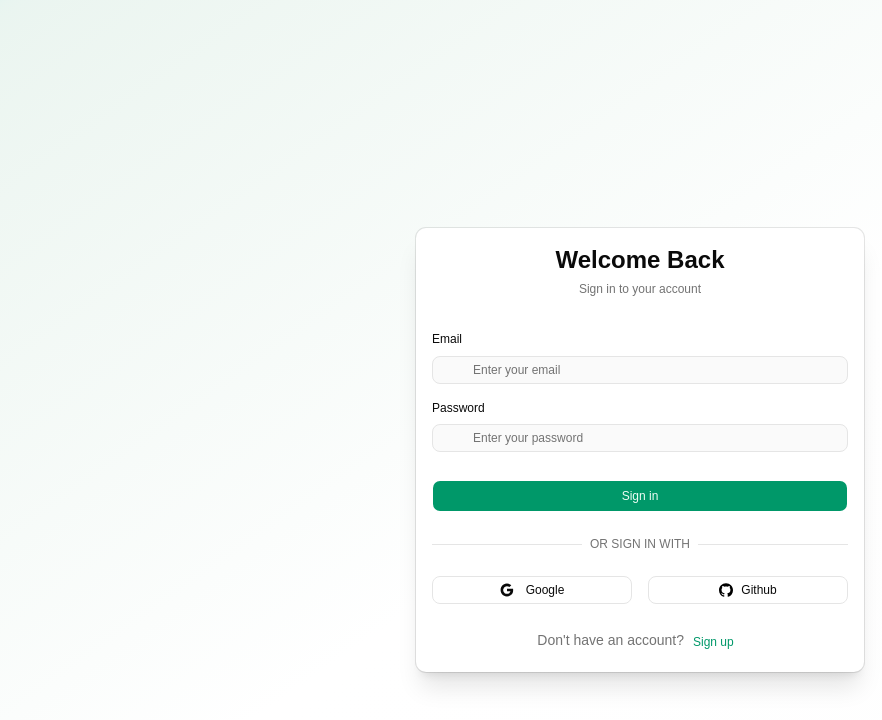
Scenario: LoginPage › validation › shows error for weak password
The width and height of the screenshot is (882, 720).
In the field labelled "Email": x=640, y=370 [432,356,848,384], type "reda@example.com"
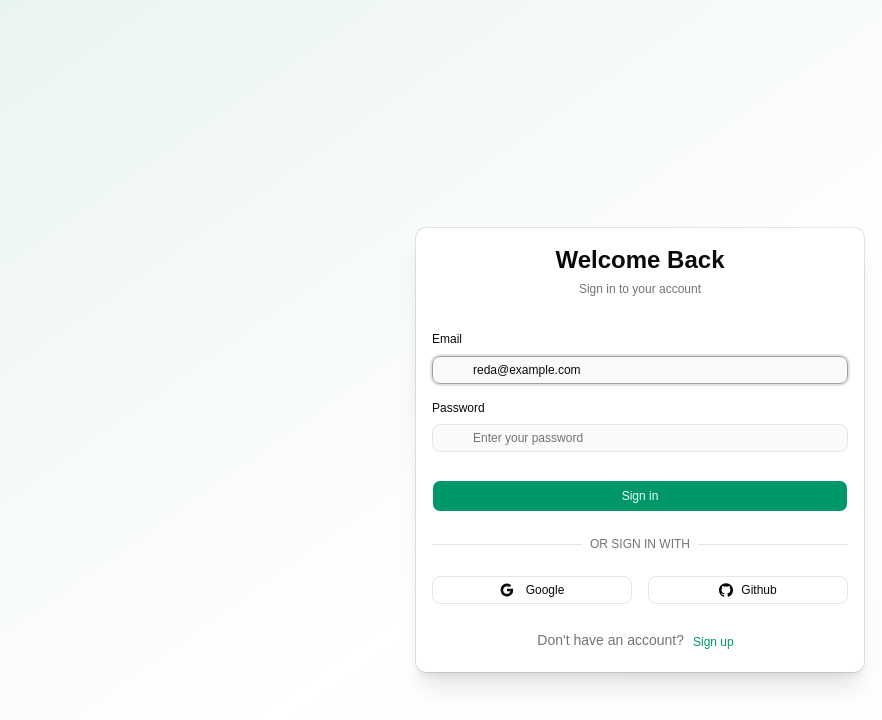
In the password field labelled "Password": x=640, y=438 [432,424,848,452], type "123"
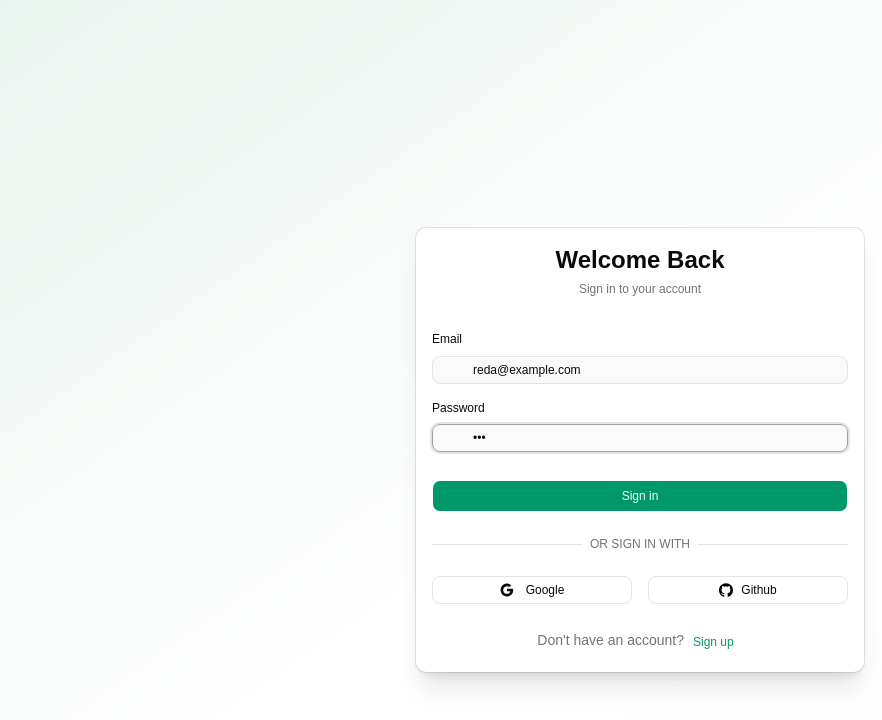
Click the button "Sign in": x=640, y=496 [432,480,848,512]
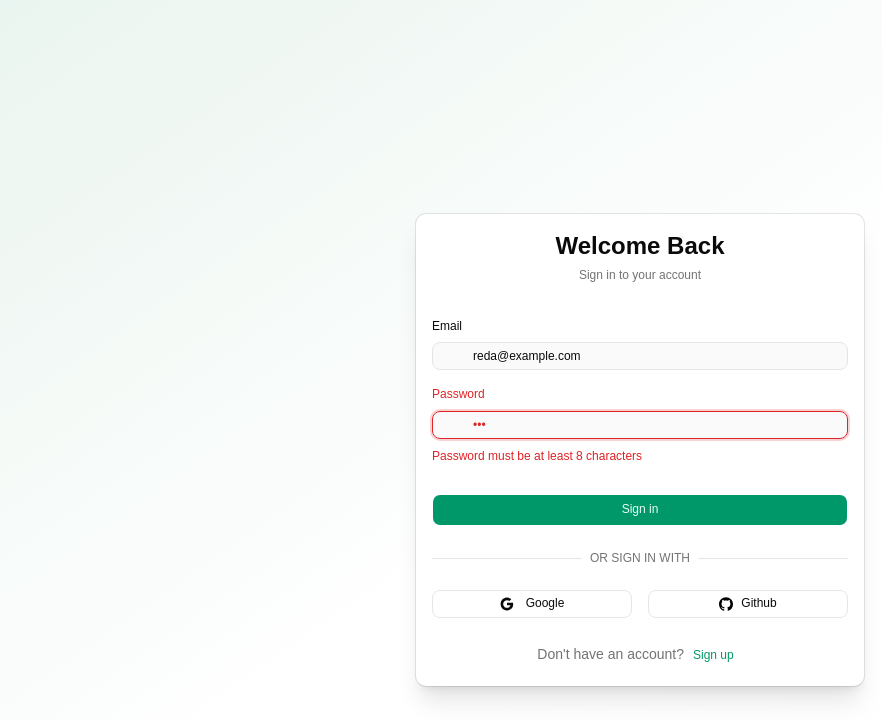
expect the text "Password must be at least 8 characters" is shown: met, box [432,448,642,462]
